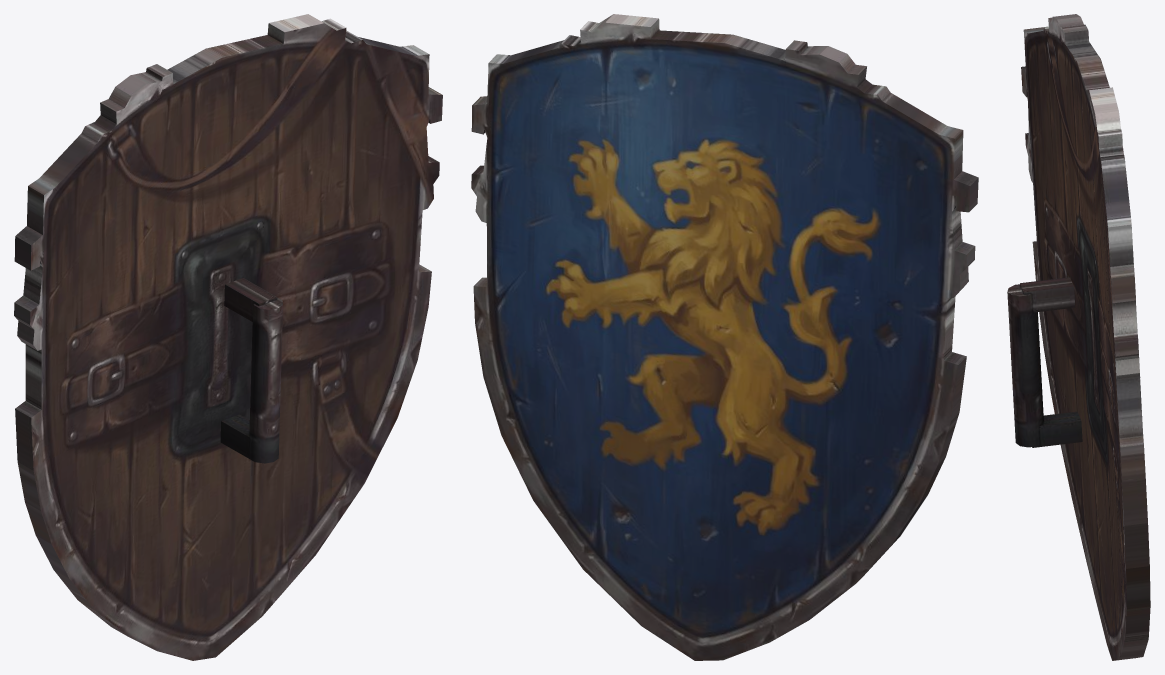
The model's file is shield_heater.glb.
The picture shows the model from 3 angles, left to right: view 1: azimuth 30°, elevation 25°; view 2: azimuth 150°, elevation 25°; view 3: azimuth 270°, elevation 25°; orthographic projection. The views are drawn at different scales.
Visible parts, largest first — view 1: shield_board; view 2: shield_board; view 3: shield_board.
Boxes of the visible parts, x1,y1,x2,y2 form: shield_board: [14, 14, 442, 660]; shield_board: [471, 14, 978, 660]; shield_board: [1007, 14, 1150, 660].
Size of the model in its own units: 0.5544 by 0.712 by 0.1544.
Materials: 1 (1 with a texture image).
